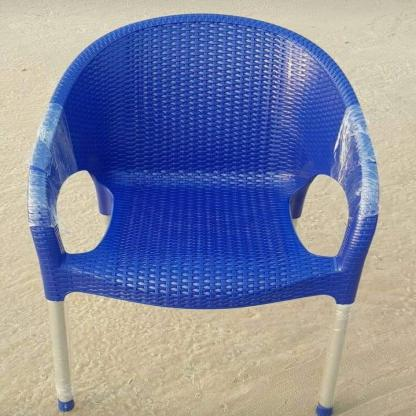chair: (21, 10, 383, 416)
